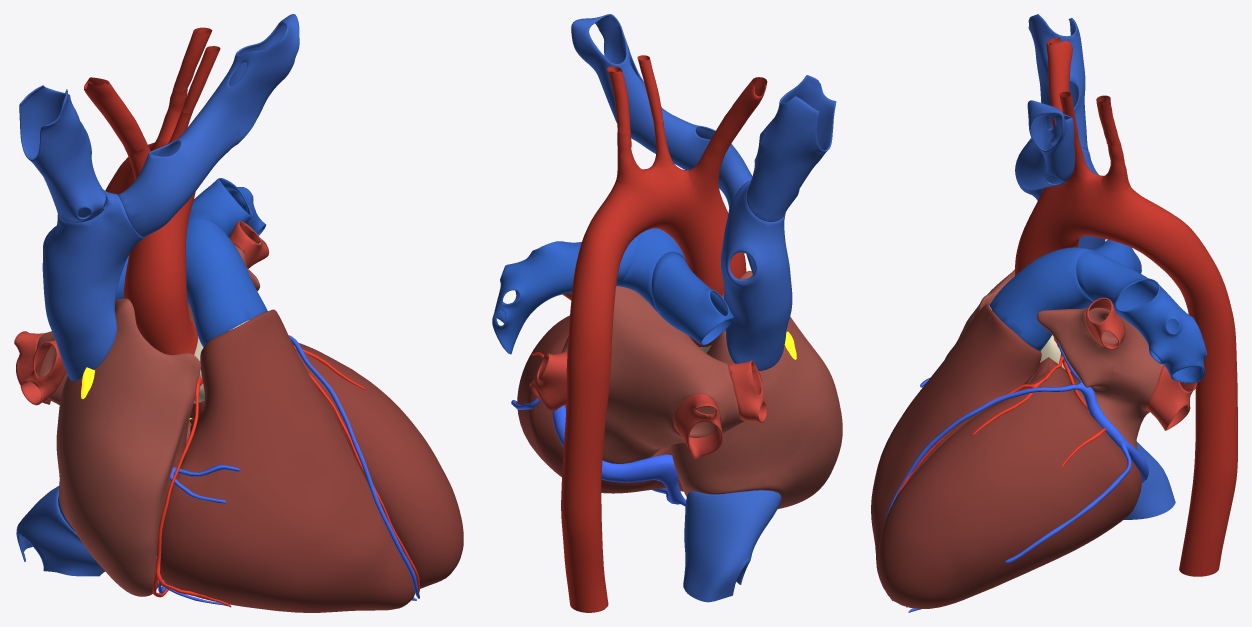
Rendered from heart.glb.
3 renders of one model, left to right at view 1: azimuth 30°, elevation 25°; view 2: azimuth 150°, elevation 25°; view 3: azimuth 270°, elevation 25°, orthographic. The views are drawn at different scales.
Visible parts, largest first — view 1: right_atrium, ascending_aorta; view 2: ascending_aorta, right_atrium, coronary_sinus; view 3: right_atrium, ascending_aorta, coronary_sinus.
Boxes of the visible parts, left/top/right/bottom form: right_atrium: left=36, top=245, right=463, bottom=612; ascending_aorta: left=14, top=14, right=419, bottom=607; ascending_aorta: left=492, top=14, right=836, bottom=612; right_atrium: left=517, top=270, right=842, bottom=508; coronary_sinus: left=511, top=398, right=685, bottom=505; right_atrium: left=871, top=269, right=1163, bottom=608; ascending_aorta: left=885, top=14, right=1237, bottom=612; coronary_sinus: left=1005, top=377, right=1148, bottom=563.
Bounding box in the file's own units: 0.1319 × 0.1934 × 0.1288.
4 materials, 4 textured.
